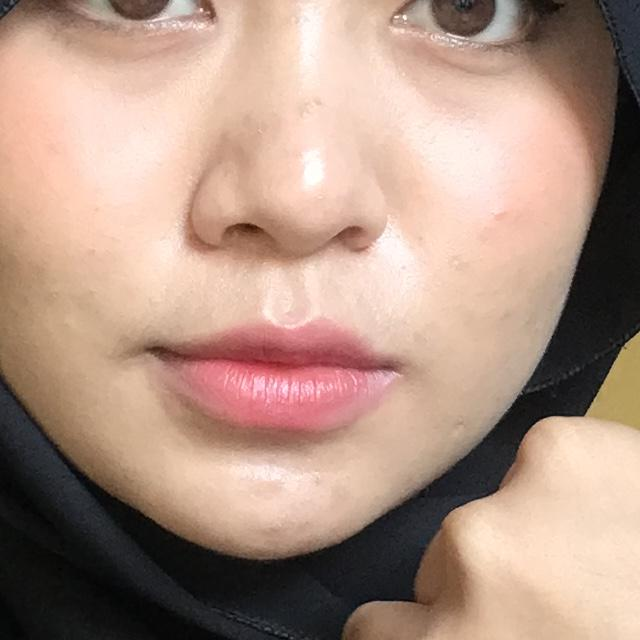telpon: (100, 96, 640, 640)
